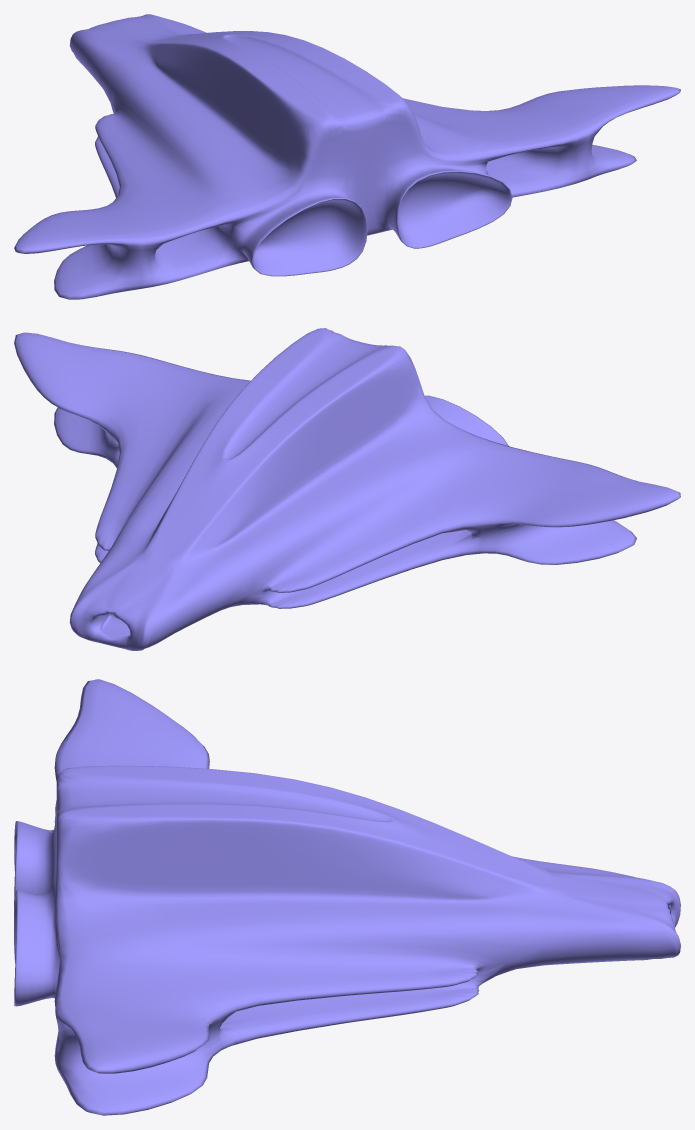
File: ShipAssetV2.FBX
3 views of the same model, one above another, from view 1: azimuth 30°, elevation 25°; view 2: azimuth 150°, elevation 25°; view 3: azimuth 270°, elevation 25° (orthographic). The views are drawn at different scales.
Visible parts, largest first — view 1: Ship_Asset; view 2: Ship_Asset; view 3: Ship_Asset.
Boxes of the visible parts, x1,y1,x2,y2 form: Ship_Asset: (14,14,680,299); Ship_Asset: (14,328,680,650); Ship_Asset: (14,679,680,1115).
Bounding box in the file's own units: 2.06 × 0.396 × 1.48.
